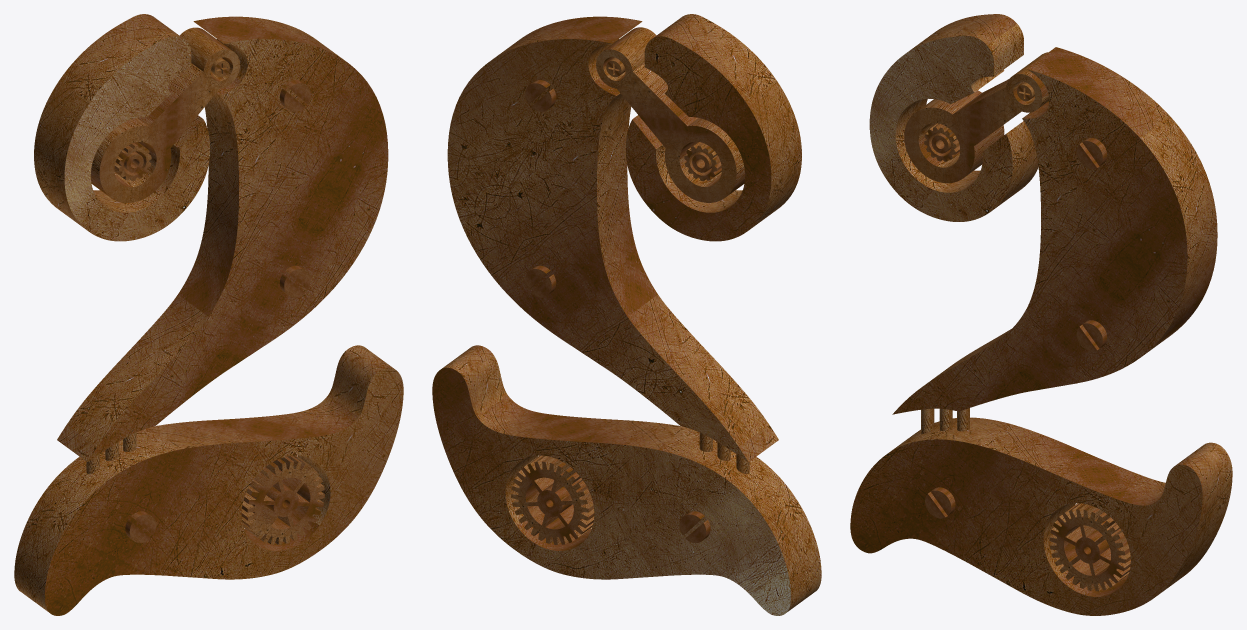
3 renders of one model, left to right at view 1: azimuth 30°, elevation 25°; view 2: azimuth 150°, elevation 25°; view 3: azimuth 330°, elevation 25°, orthographic.
Visible parts, largest first — view 1: 015, 054, Lever_037, Cogwheel_346, Cogwheel_435, Screw_671, Screw_679, Screw_664; view 2: 015, 054, Lever_037, Cogwheel_346, Cogwheel_435, Screw_671, Screw_679, Screw_664; view 3: 015, 054, Lever_037, Cogwheel_346, Cogwheel_435, Screw_671, Screw_664, Screw_679.
Part boxes in pixels (x1,y1,x2,y2): 015: (14, 16, 403, 615); 054: (34, 14, 210, 241); Lever_037: (90, 27, 240, 202); Cogwheel_346: (241, 455, 324, 544); Cogwheel_435: (114, 142, 151, 181); Screw_671: (125, 511, 156, 542); Screw_679: (279, 265, 310, 297); Screw_664: (279, 80, 310, 111); 015: (432, 16, 821, 615); 054: (625, 14, 801, 241); Lever_037: (596, 27, 745, 202); Cogwheel_346: (511, 455, 594, 544); Cogwheel_435: (684, 142, 721, 181); Screw_671: (679, 511, 710, 542); Screw_679: (525, 265, 556, 297); Screw_664: (525, 80, 556, 111); 015: (850, 47, 1232, 615); 054: (869, 14, 1038, 221); Lever_037: (904, 52, 1049, 183); Cogwheel_346: (1049, 503, 1130, 591); Cogwheel_435: (924, 123, 960, 161); Screw_671: (925, 487, 955, 518); Screw_664: (1076, 138, 1107, 169); Screw_679: (1076, 320, 1107, 351).
Size of the model in its own units: 67.83 by 102 by 12.89.
1 material, 1 textured.
